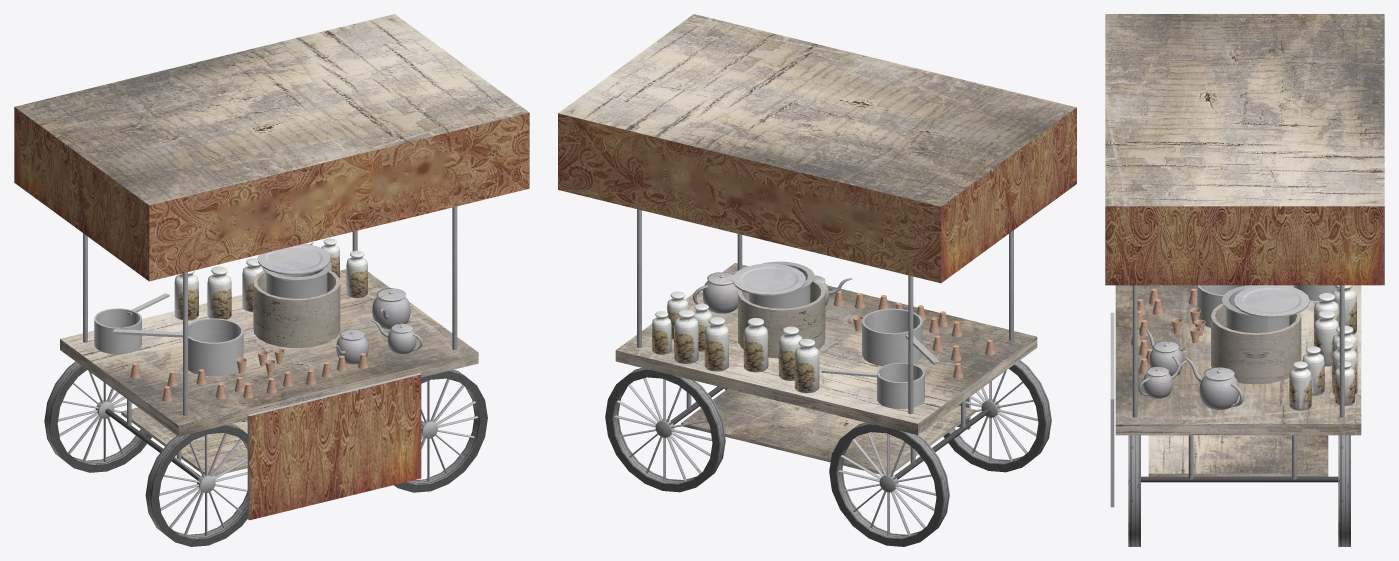
The model's file is thela_gadi.glb.
3 views of the same model, side by side, from view 1: azimuth 30°, elevation 25°; view 2: azimuth 150°, elevation 25°; view 3: azimuth 270°, elevation 25° (orthographic). The views are drawn at different scales.
Parts seen in each view (by area): view 1: tea_stall_lambert1_0; view 2: tea_stall_lambert1_0; view 3: tea_stall_lambert1_0.
Boxes of the visible parts, x1=… form: tea_stall_lambert1_0: x1=14, y1=14, x2=529, y2=546; tea_stall_lambert1_0: x1=558, y1=14, x2=1076, y2=546; tea_stall_lambert1_0: x1=1105, y1=14, x2=1384, y2=546.
Size of the model in its own units: 16.17 by 14.85 by 9.93.
1 material, 1 textured.
